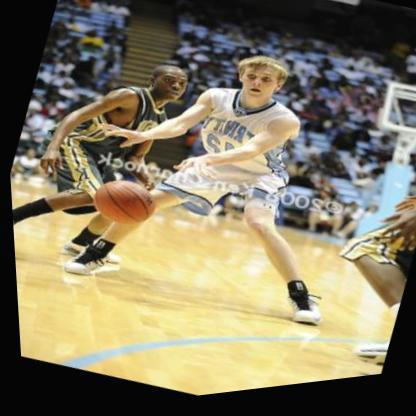basketball: (84, 167, 161, 240)
